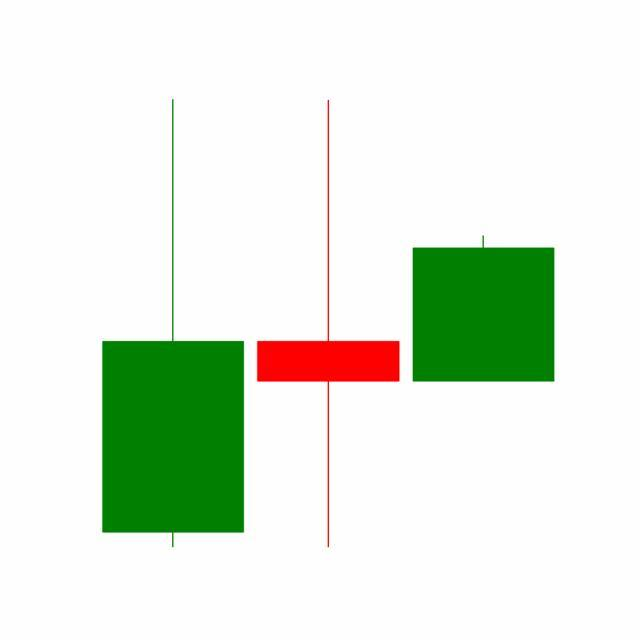Marubozu: (406, 234, 562, 383)
